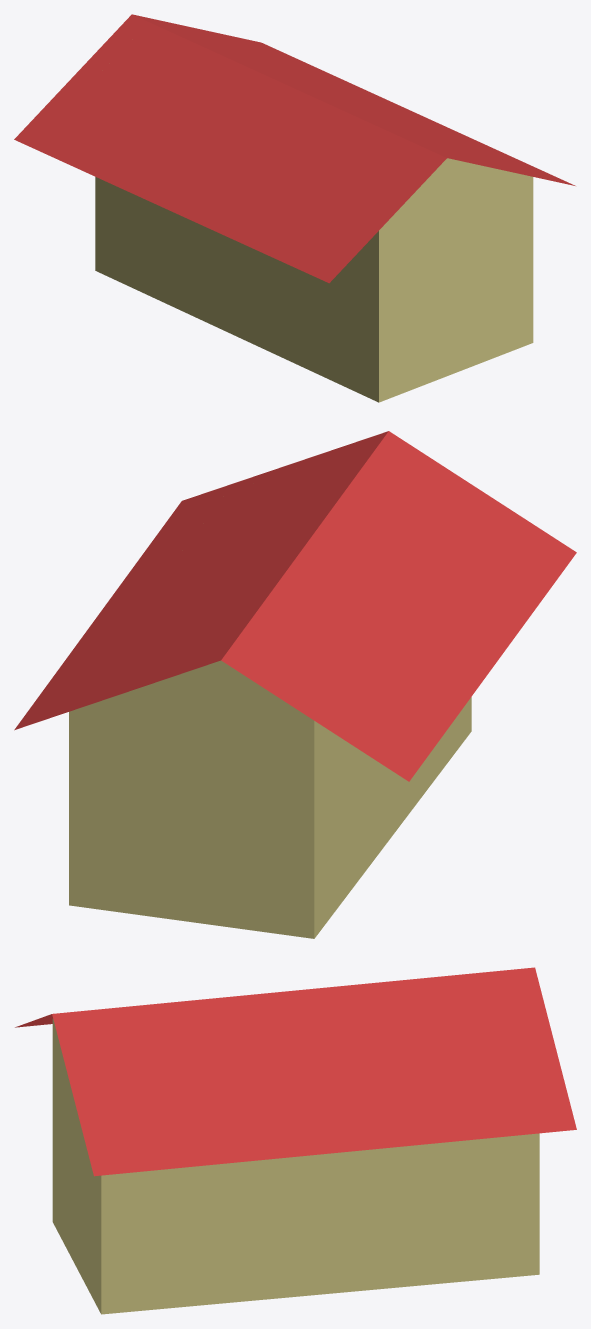
The picture shows the model from 3 angles, top to bottom: view 1: azimuth 30°, elevation 25°; view 2: azimuth 150°, elevation 25°; view 3: azimuth 270°, elevation 25°; orthographic projection. The views are drawn at different scales.
Size of the model in its own units: 16.42 by 20.04 by 9.57.
